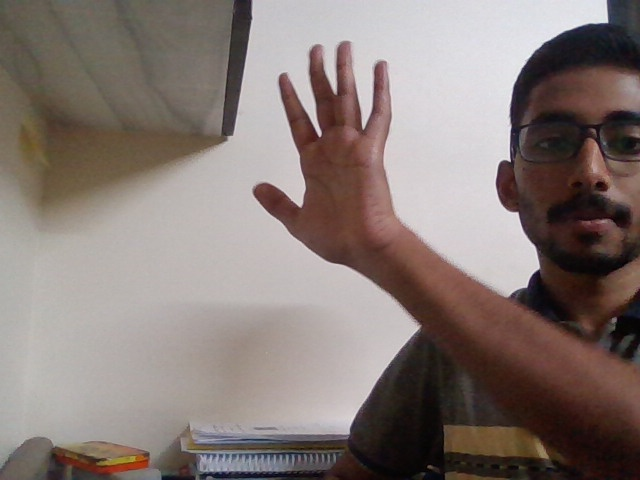Hello: (252, 34, 409, 289)
